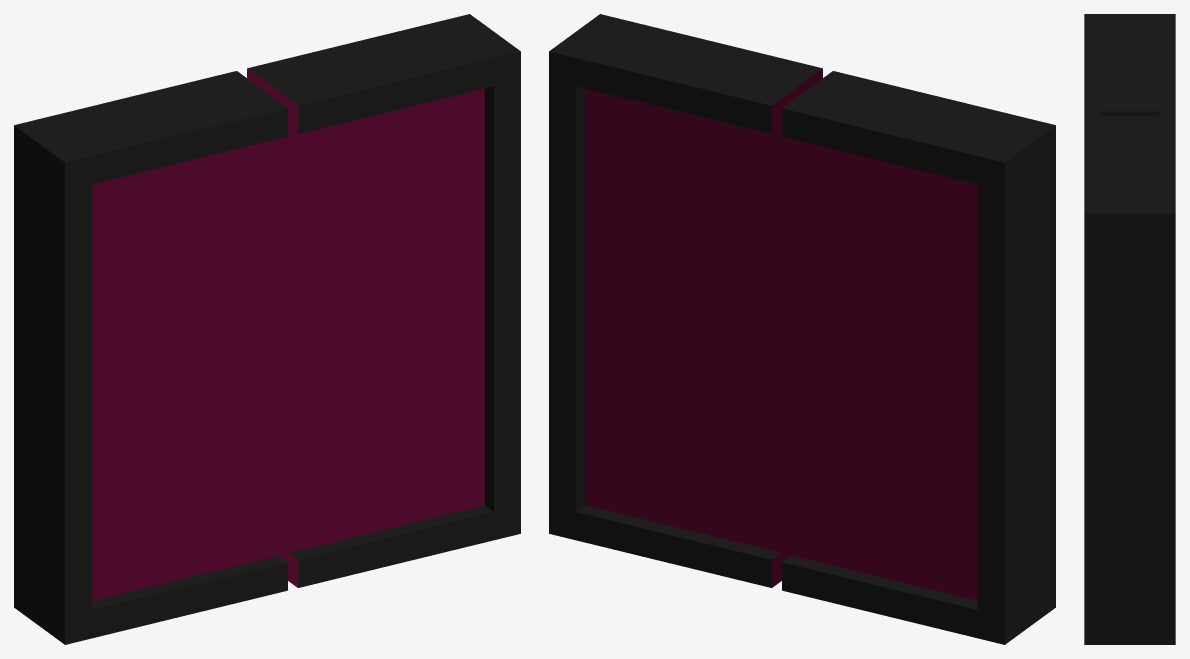
File: CrackDoor.fbx
3 renders of one model, left to right at view 1: azimuth 30°, elevation 25°; view 2: azimuth 150°, elevation 25°; view 3: azimuth 270°, elevation 25°, orthographic. The views are drawn at different scales.
Parts seen in each view (by area): view 1: FinalDoor_03; view 2: FinalDoor_03; view 3: FinalDoor_03.
Part boxes in pixels (x1,y1,x2,y2): FinalDoor_03: (14,14,520,644); FinalDoor_03: (549,14,1055,644); FinalDoor_03: (1084,14,1175,644).
Size of the model in its own units: 589 by 596 by 114.
